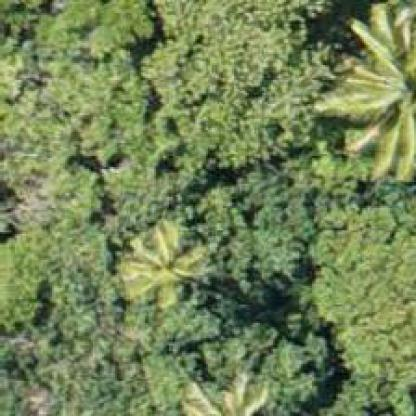coconut tree: (312, 3, 416, 185), (128, 234, 189, 299)
